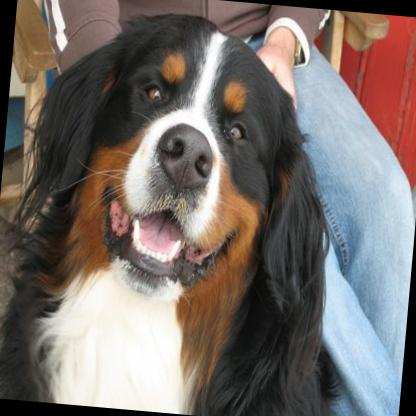Bernese_mountain_dog: (0, 0, 372, 416)
